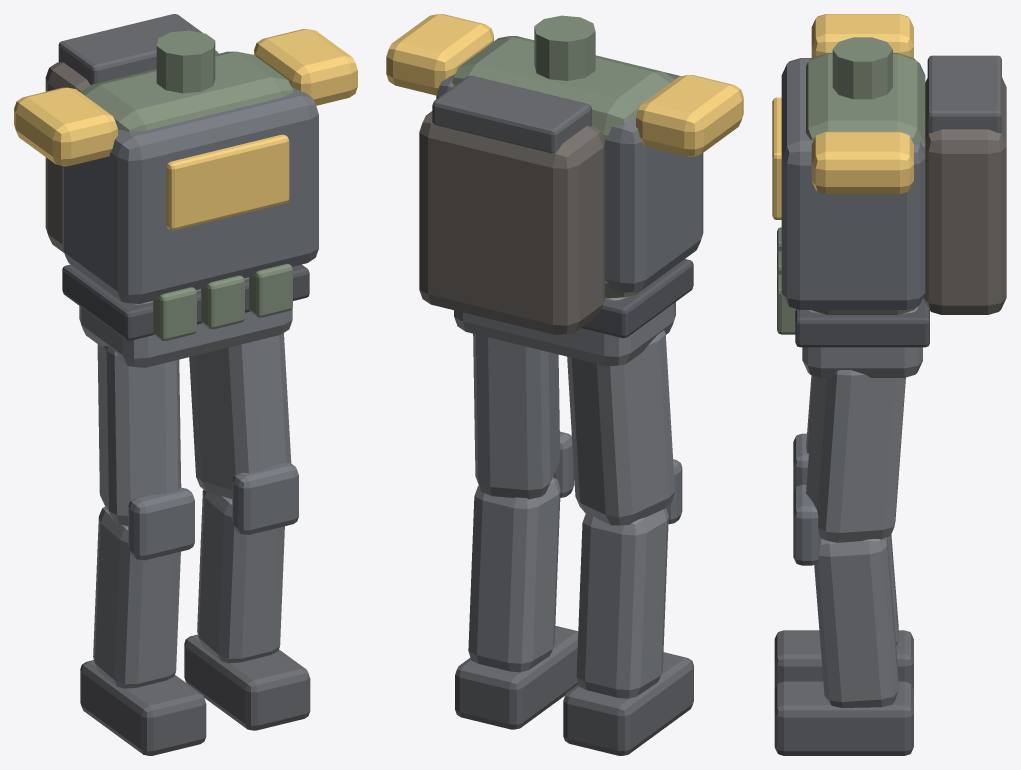
Rendered from player_body.fbx.
3 views of the same model, side by side, from view 1: azimuth 30°, elevation 25°; view 2: azimuth 150°, elevation 25°; view 3: azimuth 270°, elevation 25° (orthographic). The views are drawn at different scales.
Visible parts, largest first — view 1: Torso, ShinR, ShinL, ThighL, ThighR, player_body; view 2: Torso, ShinR, ShinL, ThighR, ThighL, player_body; view 3: Torso, ShinL, ThighL, player_body, ShinR, ThighR.
Boxes of the visible parts, x1,y1,x2,y2 form: Torso: [14, 14, 357, 303]; ShinR: [80, 506, 206, 755]; ShinL: [184, 489, 310, 730]; ThighL: [189, 333, 298, 534]; ThighR: [97, 344, 194, 560]; player_body: [62, 264, 309, 367]; Torso: [386, 14, 743, 335]; ShinR: [563, 508, 693, 755]; ShinL: [455, 477, 578, 729]; ThighR: [567, 330, 682, 525]; ThighL: [473, 333, 574, 499]; player_body: [454, 259, 693, 366]; Torso: [772, 14, 1006, 314]; ShinL: [774, 537, 913, 755]; ThighL: [793, 370, 905, 565]; player_body: [777, 227, 929, 377]; ShinR: [774, 535, 913, 689]; ThighR: [793, 375, 814, 492].
Bounding box in the file's own units: 0.76 × 1.59 × 0.505.
